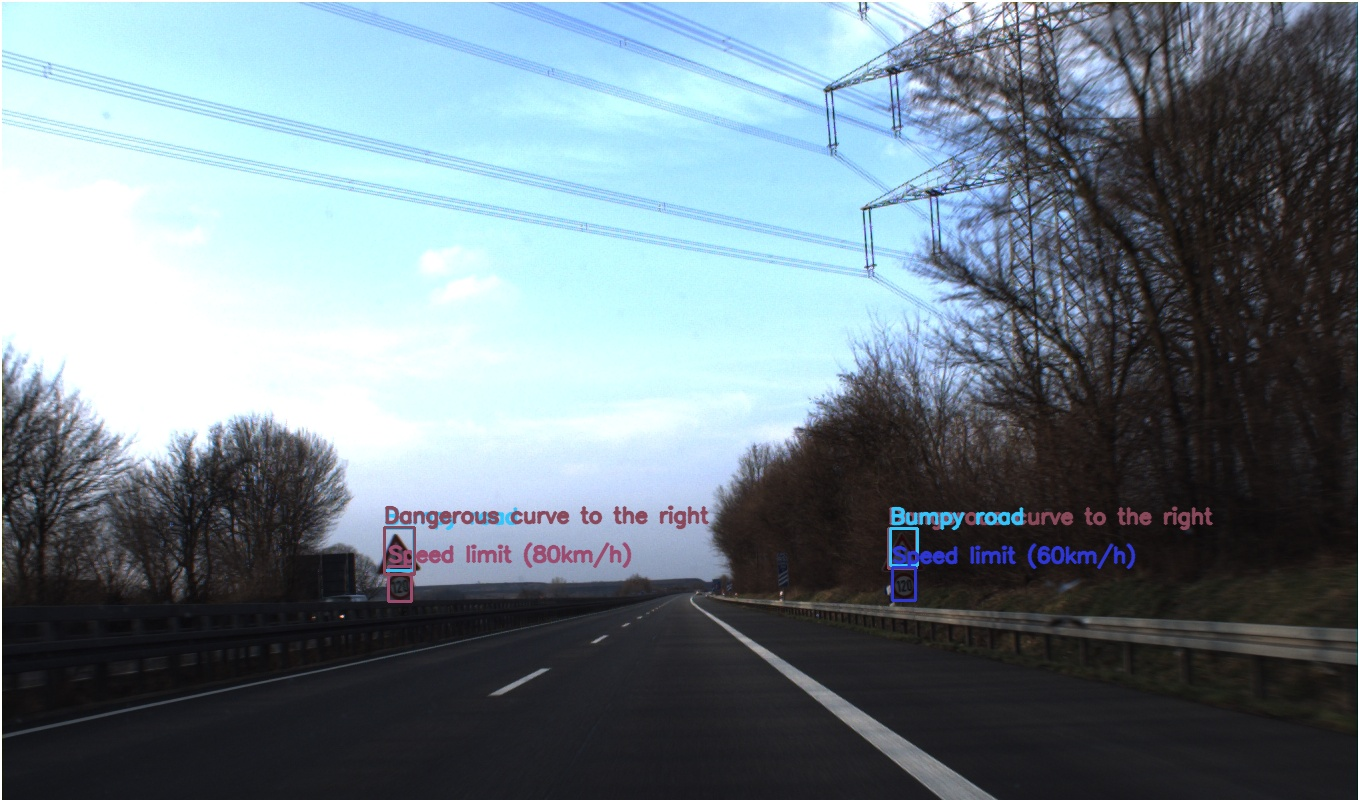Road work: (770, 426, 808, 462)
